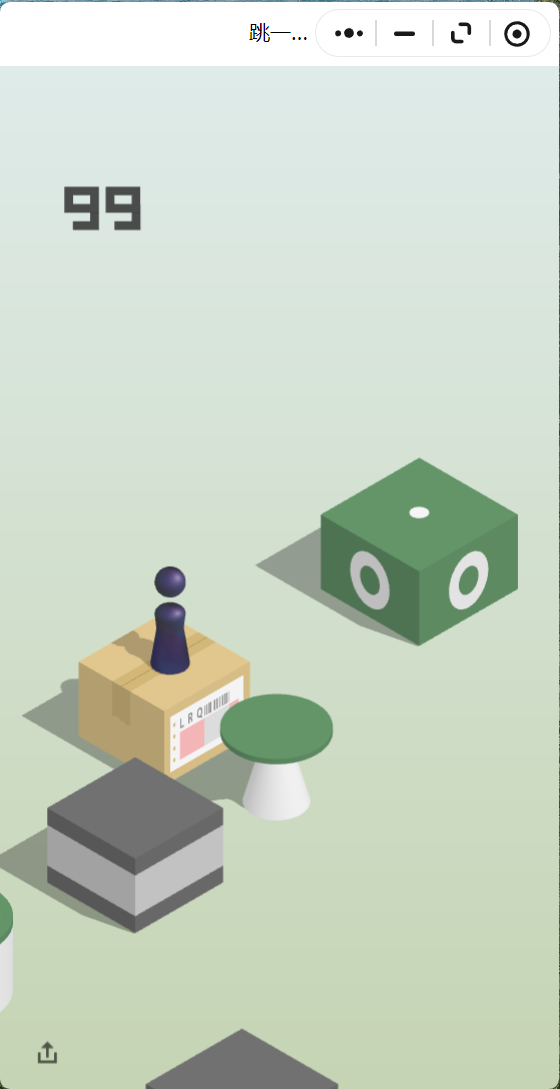piece: (155, 566, 186, 671)
target: (321, 457, 518, 571)
